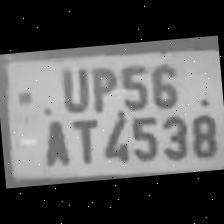3: (156, 110, 191, 162)
4: (96, 110, 130, 164)
5: (112, 59, 150, 111), (125, 111, 158, 162)
6: (144, 60, 182, 109)
8: (184, 106, 220, 160)
A: (34, 111, 72, 169)
P: (86, 61, 120, 112)
T: (66, 111, 100, 166)
U: (55, 62, 93, 114)
